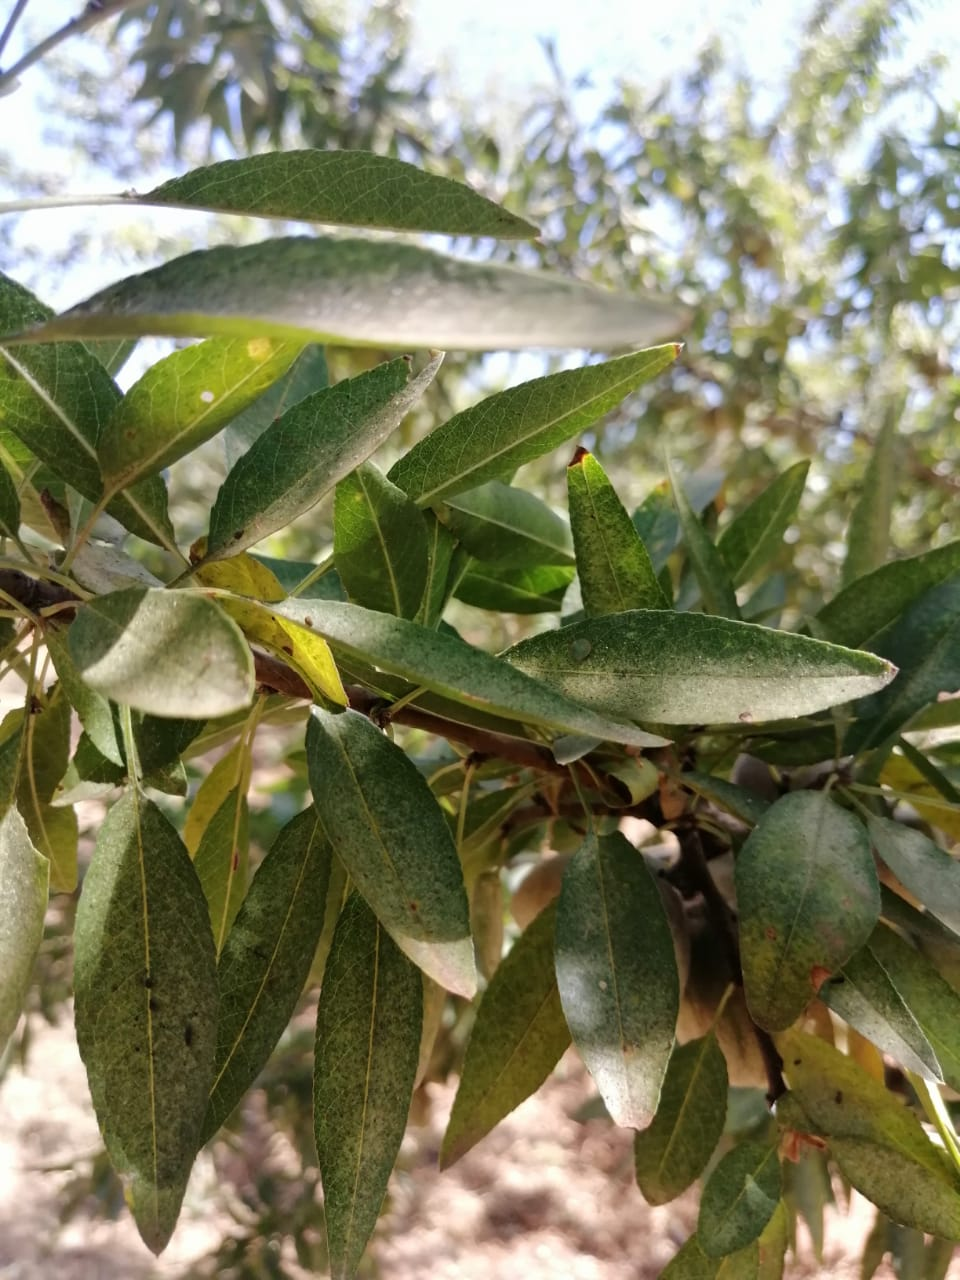acariens: (68, 790, 217, 1257), (182, 802, 333, 1157), (305, 700, 476, 1006), (499, 604, 903, 725), (552, 840, 684, 1131), (733, 790, 883, 1031), (71, 584, 259, 721)
